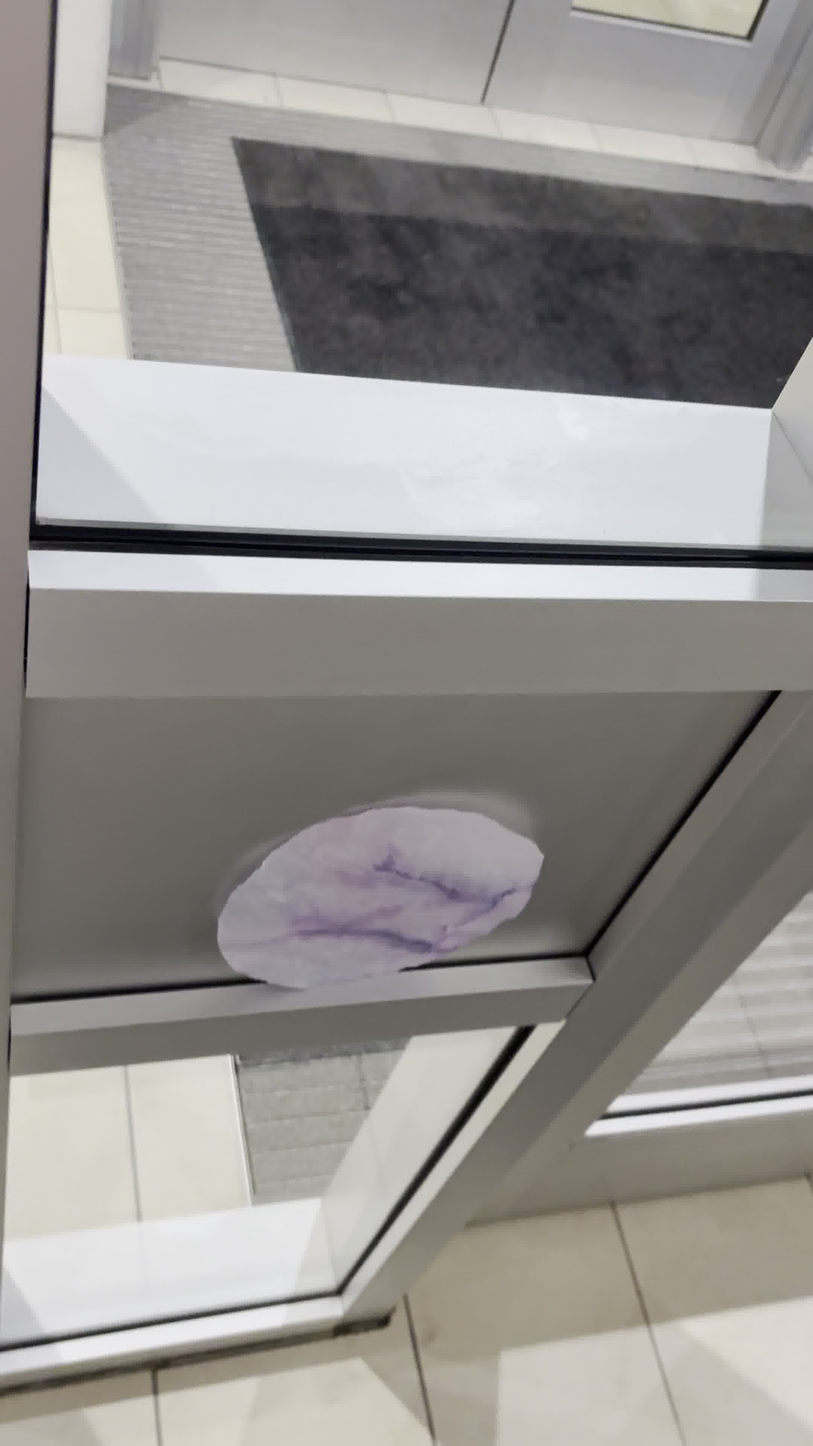Target: (212, 796, 556, 997)
